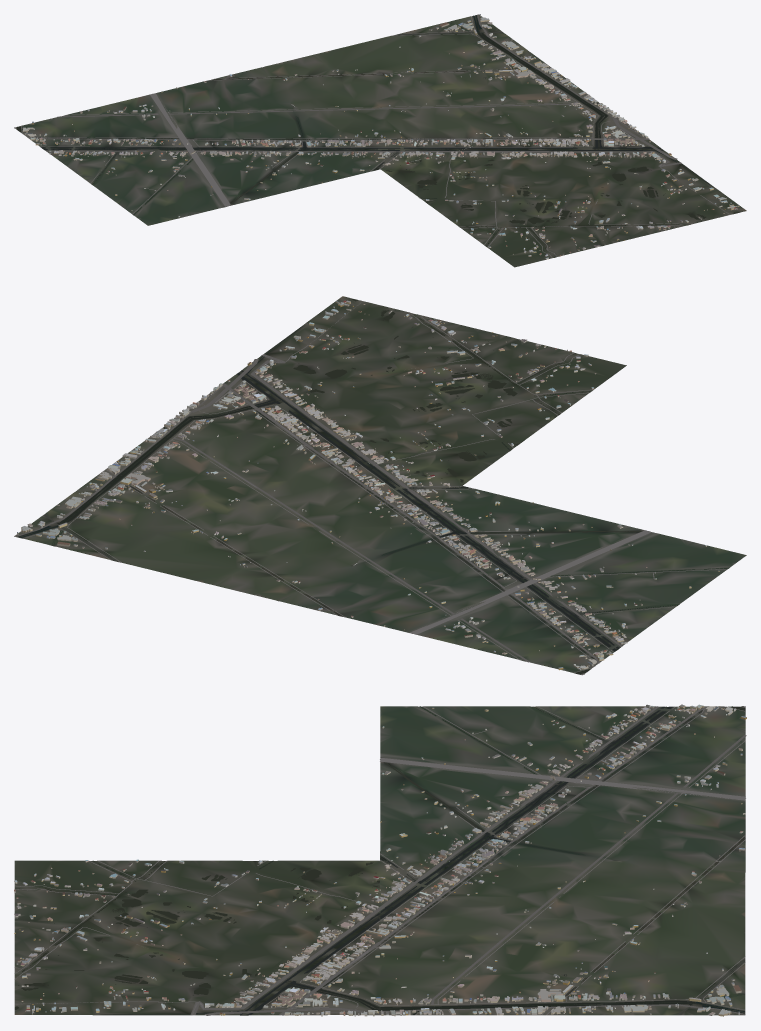
3 views of the same model, one above another, from view 1: azimuth 30°, elevation 25°; view 2: azimuth 150°, elevation 25°; view 3: azimuth 270°, elevation 25° (orthographic). The views are drawn at different scales.
Visible parts, largest first — view 1: ground, buildings, roads, water; view 2: ground, buildings, roads, water; view 3: ground, buildings, roads, water.
Boxes of the visible parts, x1,y1,x2,y2 form: ground: (16,14,746,267); buildings: (22,14,739,259); roads: (14,14,730,257); water: (17,15,738,250); ground: (14,296,746,674); buildings: (17,300,719,670); roads: (15,301,727,674); water: (18,298,729,674); ground: (14,706,745,1015); buildings: (14,704,746,1016); roads: (14,706,746,1015); water: (15,706,745,1015).
Bounding box in the file's own units: 2822 × 18.6 × 2810.
